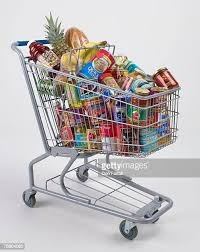with_basket: (10, 35, 180, 239)
